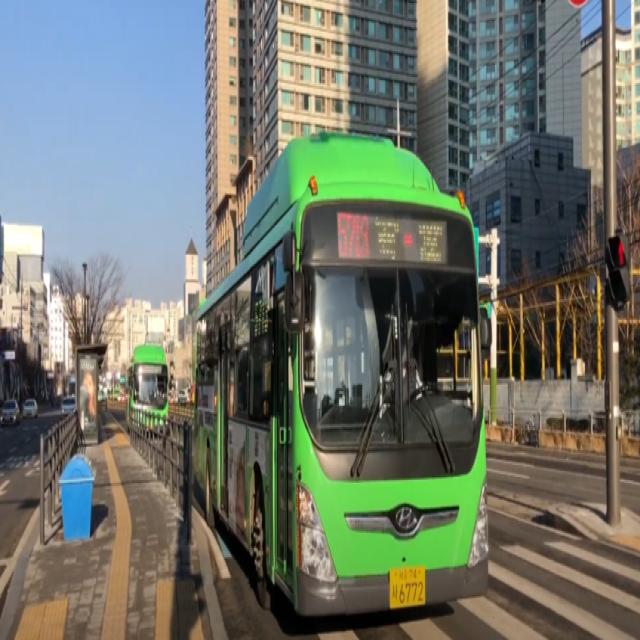bus-number: (338, 211, 370, 260)
